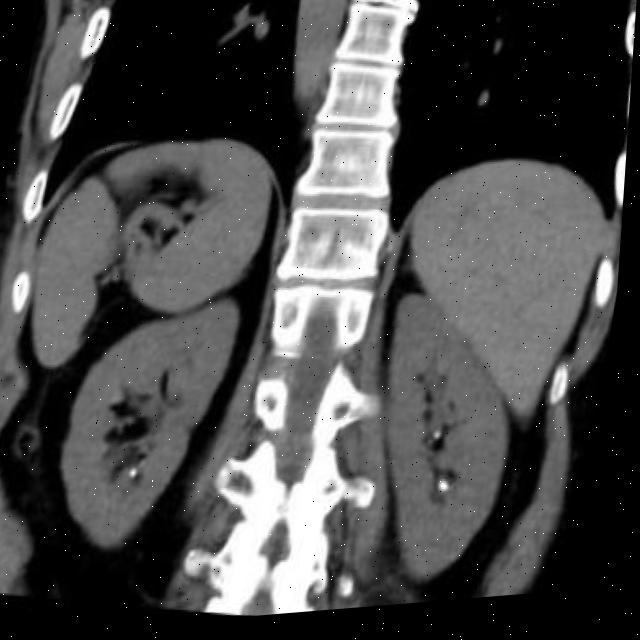Tas_Var: (441, 485, 457, 505), (130, 469, 145, 483), (436, 435, 451, 448), (431, 444, 440, 454)
